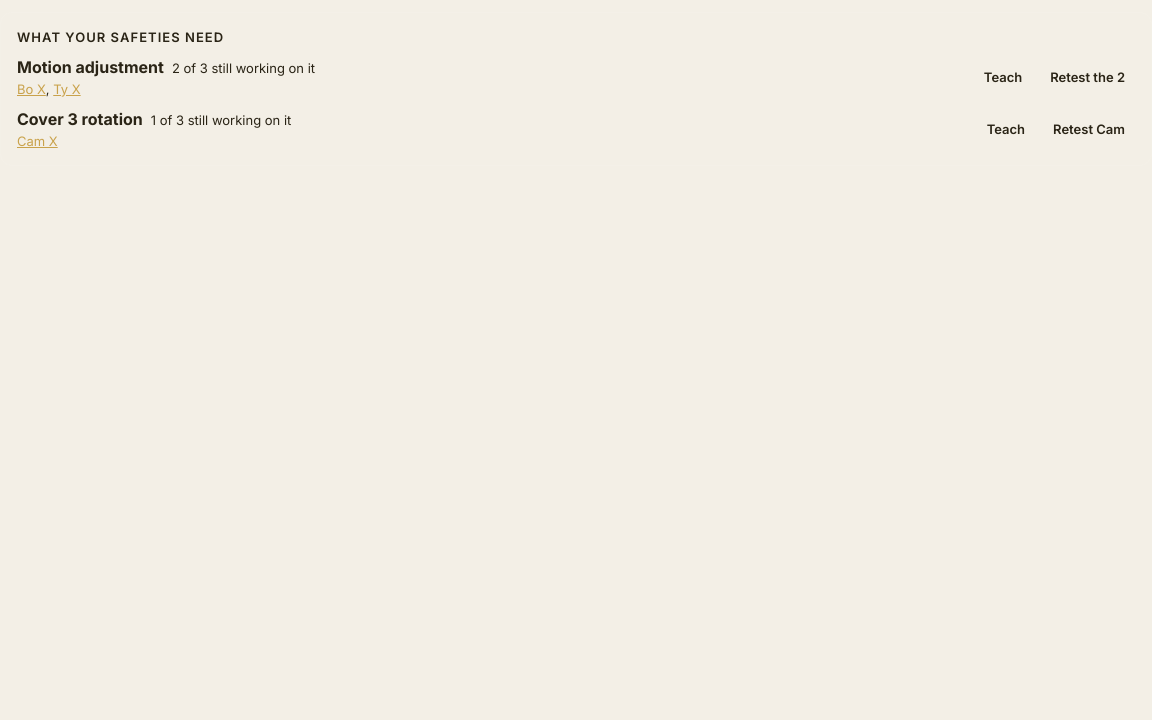
Test: what the group needs › Next teaches the group's next problem in the same screen
Click the button "Teach" in the row of "Motion adjustment".
click(1003, 77)  # box left=974, top=65, right=1032, bottom=89
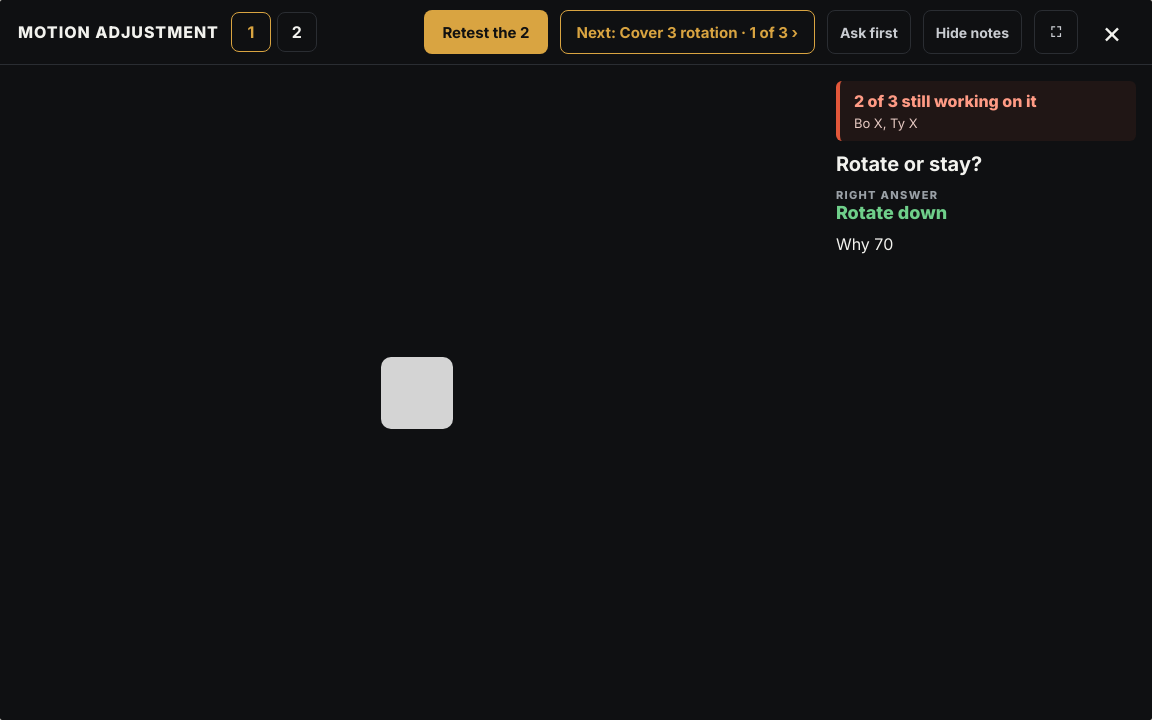
Click the button "Next: Cover 3 rotation · 1 of 3 ›".
click(687, 32)  # box left=560, top=10, right=815, bottom=54
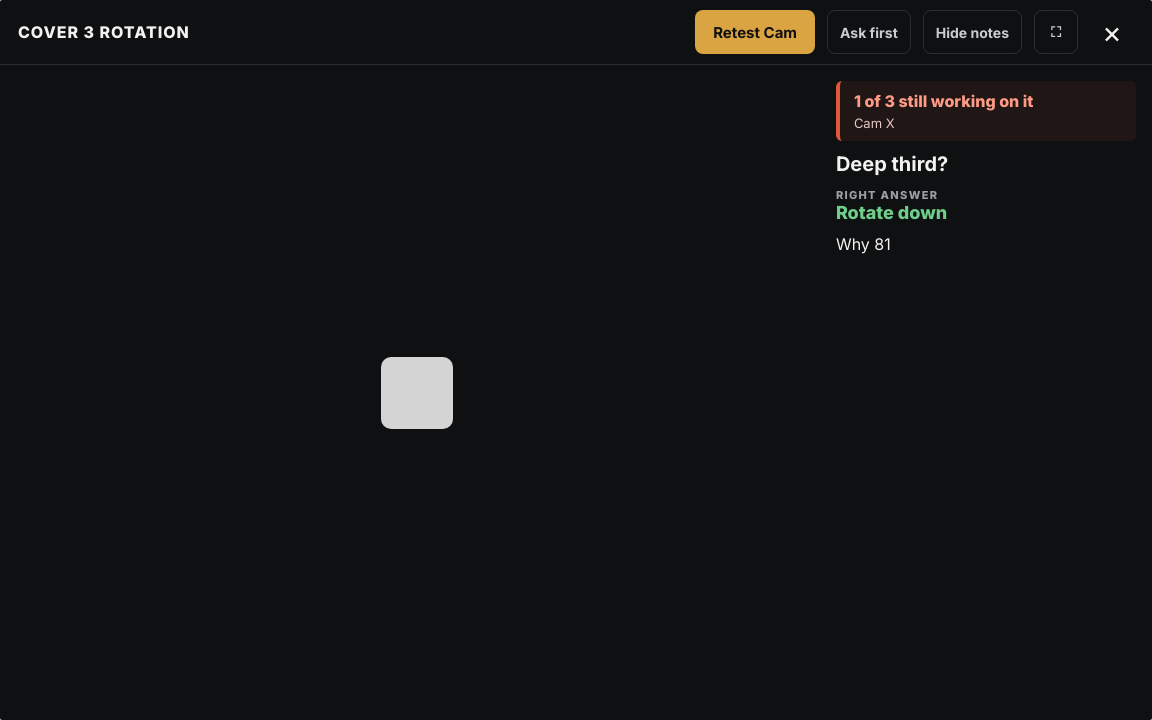
Expected: the text "Deep third?" is shown, left=836, top=152, right=948, bottom=176
Expected: the text "1 of 3 still working on it" is shown, left=854, top=91, right=1033, bottom=111
